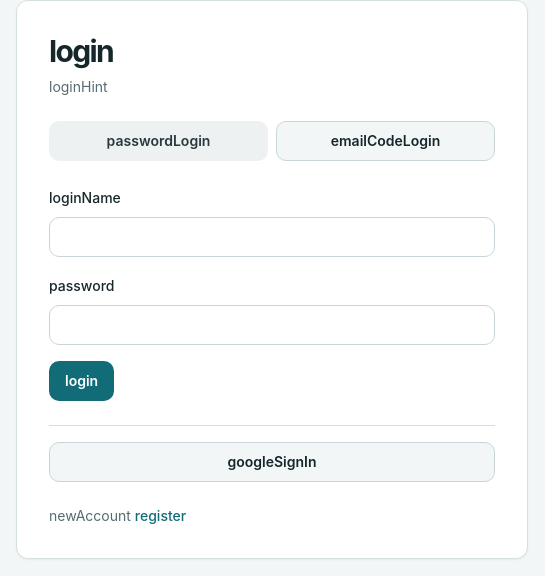
Test case: switches the login page between password and Gmail code forms
expect the field labelled "loginName" is shown: met, box [49,217,495,257]
expect the password field labelled "password" is shown: met, box [49,305,495,345]
Click the button "emailCodeLogin" at point(386, 141), box [276,121,495,161]
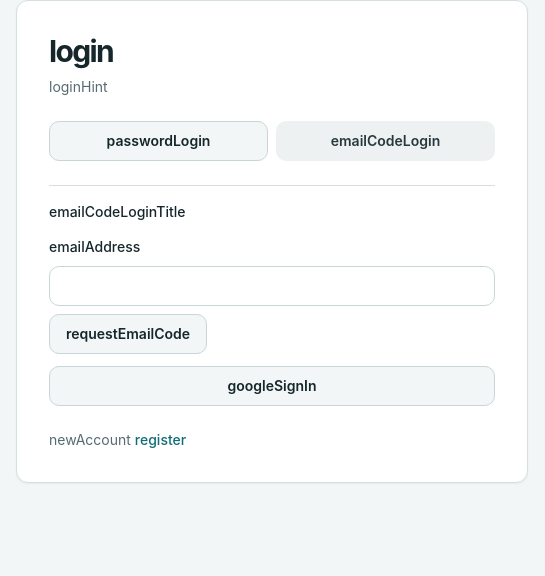
expect the button "googleSignIn" is shown: met, box [49,366,495,406]
expect the field labelled "emailAddress" is shown: met, box [49,266,495,306]
Click the button "passwordLogin" at point(158, 141), box [49,121,268,161]
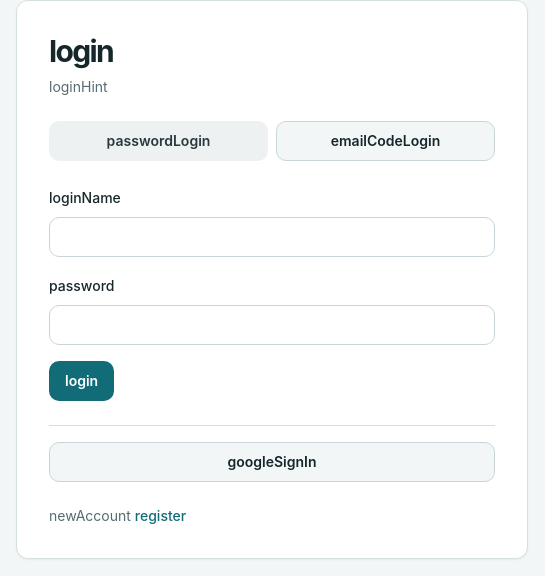
expect the password field labelled "password" is shown: met, box [49,305,495,345]
expect the label labelled "emailAddress" is gone: met
